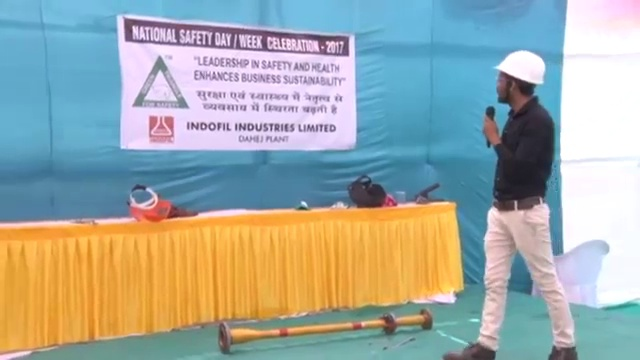helmet: (489, 48, 547, 87)
helmet_on: (487, 49, 549, 105)
person: (442, 49, 576, 360)
